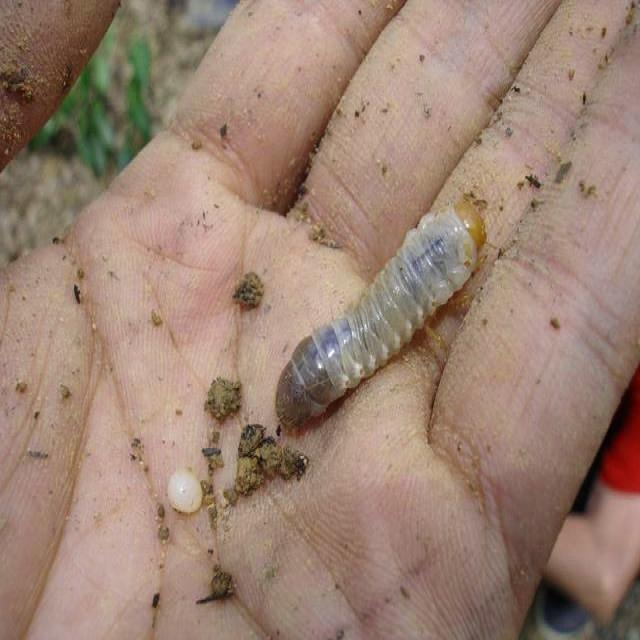grub: (277, 185, 519, 445), (167, 465, 203, 513)
